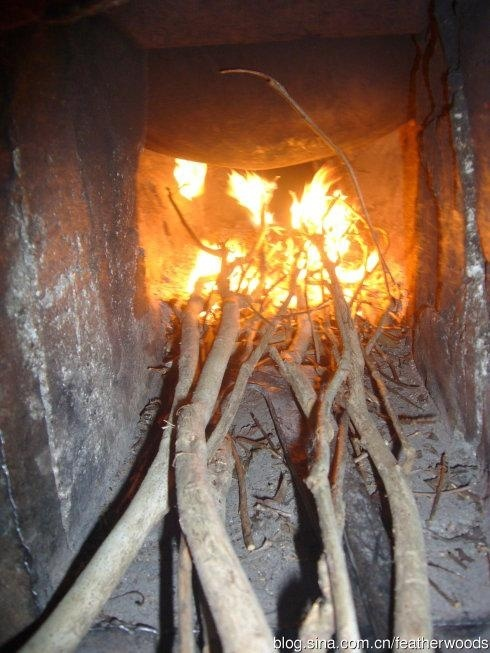fire: (161, 153, 387, 316)
